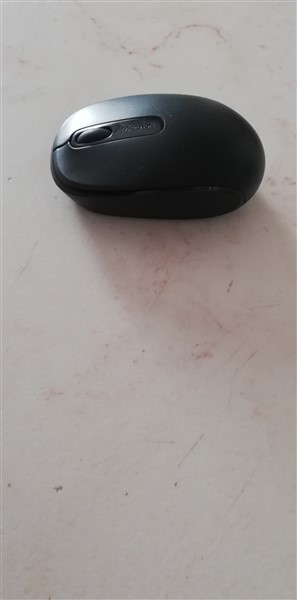mouse: (49, 89, 273, 223)
